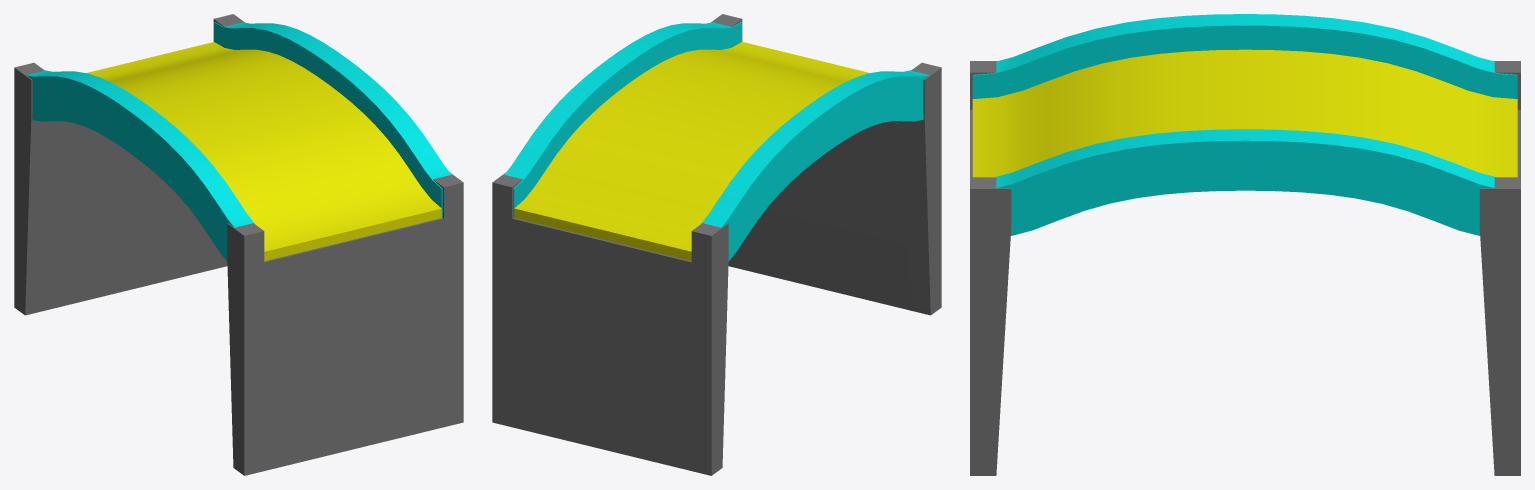
File: puente.fbx
3 renders of one model, left to right at view 1: azimuth 30°, elevation 25°; view 2: azimuth 150°, elevation 25°; view 3: azimuth 270°, elevation 25°, orthographic. The views are drawn at different scales.
Visible parts, largest first — view 1: Pilar, Suelo, Barandilla; view 2: Pilar, Suelo, Barandilla; view 3: Barandilla, Suelo, Pilar.
Part boxes in pixels (left/top/right/bottom): Pilar: left=14, top=14, right=463, bottom=475; Suelo: left=86, top=42, right=441, bottom=261; Barandilla: left=26, top=22, right=451, bottom=261; Pilar: left=492, top=14, right=941, bottom=475; Suelo: left=514, top=42, right=869, bottom=260; Barandilla: left=504, top=21, right=929, bottom=261; Barandilla: left=972, top=14, right=1517, bottom=235; Suelo: left=972, top=49, right=1517, bottom=177; Pilar: left=970, top=61, right=1520, bottom=475.
Bounding box in the file's own units: 11.11 × 13.54 × 20.2.
